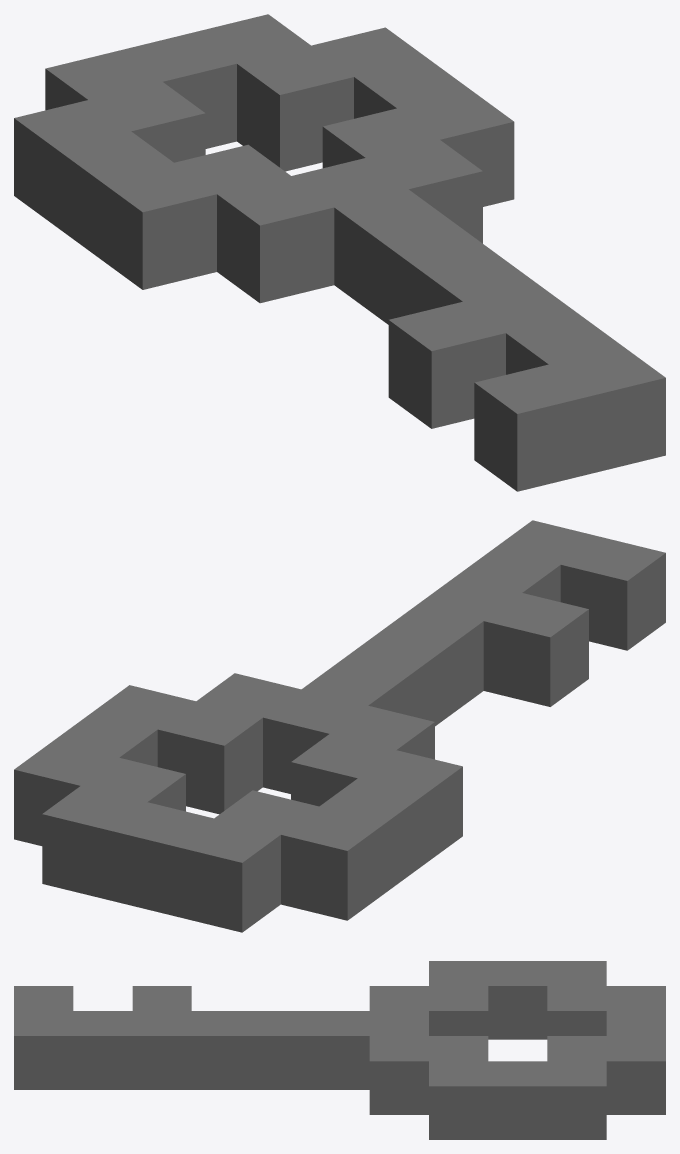
Rendered from chave1Vox.glb.
3 renders of one model, top to bottom at view 1: azimuth 30°, elevation 25°; view 2: azimuth 150°, elevation 25°; view 3: azimuth 270°, elevation 25°, orthographic. The views are drawn at different scales.
Visible parts, largest first — view 1: Mesh; view 2: Mesh; view 3: Mesh.
Part boxes in pixels (x1=…): Mesh: x1=14, y1=14, x2=665, y2=491; Mesh: x1=14, y1=520, x2=665, y2=932; Mesh: x1=14, y1=961, x2=665, y2=1139.
Bounding box in the file's own units: 0.5 × 0.1 × 1.1.
1 material, 1 textured.
